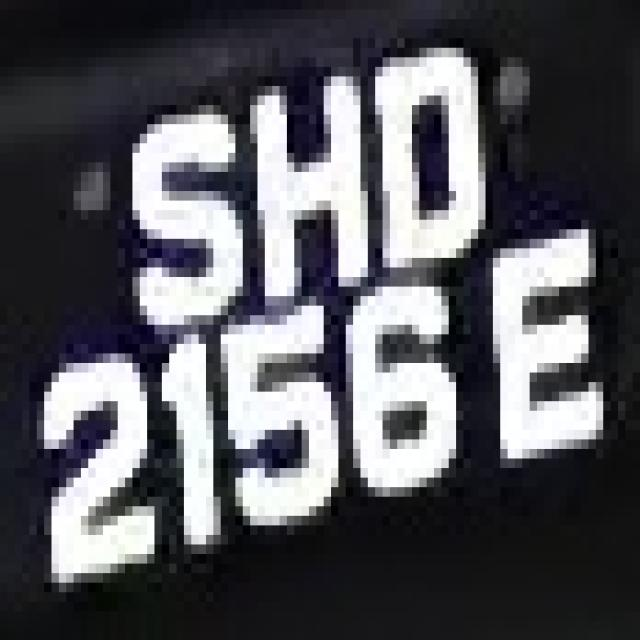1: (154, 306, 243, 564)
2: (22, 334, 169, 612)
5: (214, 277, 360, 544)
6: (324, 268, 478, 507)
D: (360, 28, 486, 286)
E: (456, 210, 618, 487)
H: (228, 67, 375, 306)
S: (118, 76, 242, 344)
